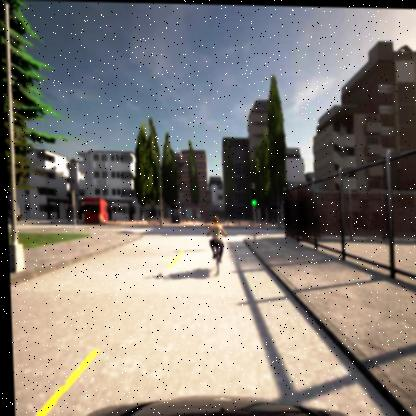bike: (204, 216, 228, 275)
